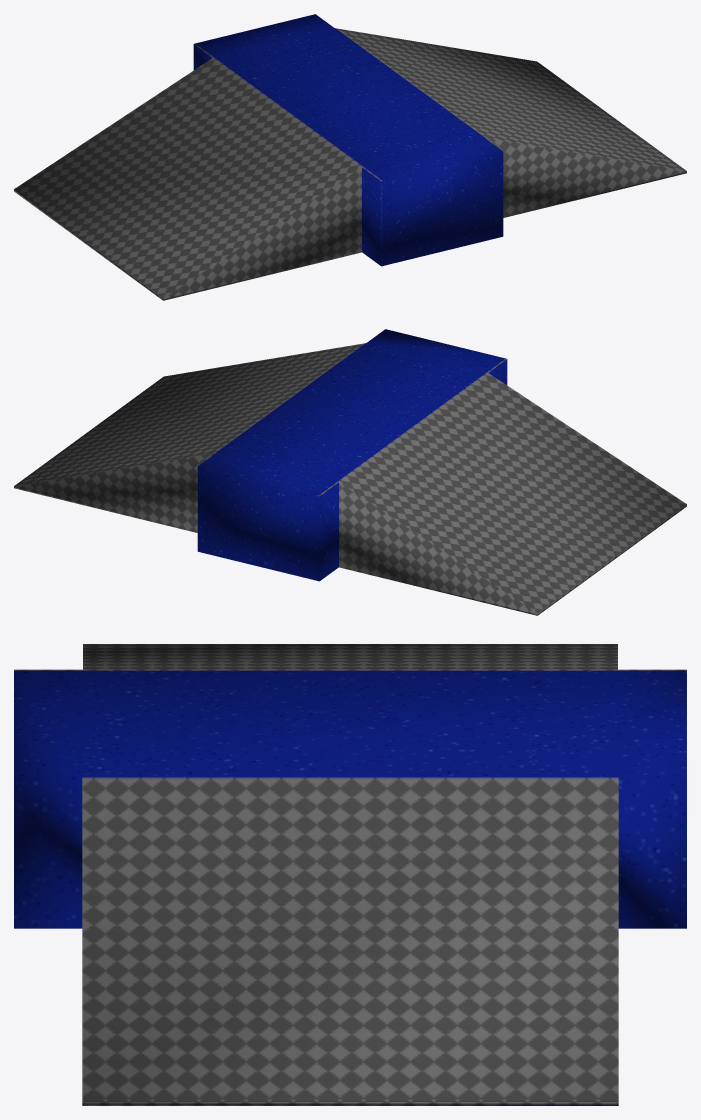
Rendered from ramp.obj.
3 renders of one model, top to bottom at view 1: azimuth 30°, elevation 25°; view 2: azimuth 150°, elevation 25°; view 3: azimuth 270°, elevation 25°, orthographic. The views are drawn at different scales.
Visible parts, largest first — view 1: Cube1; view 2: Cube1; view 3: Cube1.
Part boxes in pixels (<box>): Cube1: <box>14,14,686,300</box>; Cube1: <box>14,329,686,615</box>; Cube1: <box>14,644,686,1105</box>.
Size of the model in its own units: 12.87 by 2 by 8.
